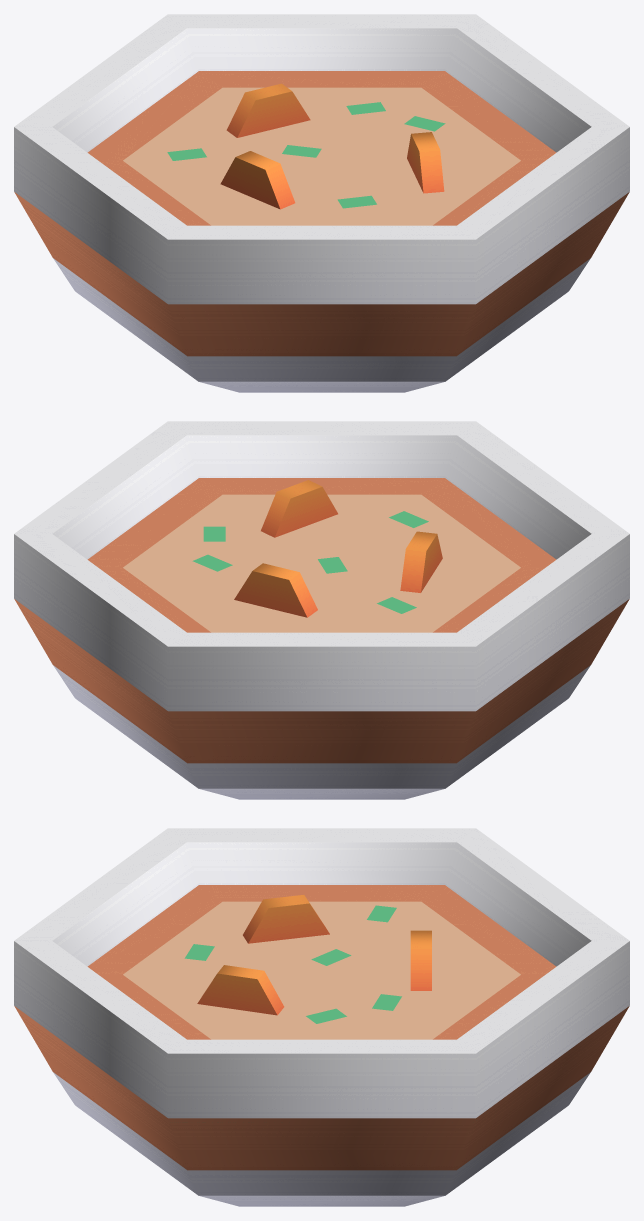
Rendered from bowl-soup.glb.
3 views of the same model, one above another, from view 1: azimuth 30°, elevation 25°; view 2: azimuth 150°, elevation 25°; view 3: azimuth 270°, elevation 25° (orthographic).
Visible parts, largest first — view 1: bowl-soup; view 2: bowl-soup; view 3: bowl-soup.
Boxes of the visible parts, x1,y1,x2,y2 form: bowl-soup: (14, 14, 629, 392); bowl-soup: (14, 421, 629, 799); bowl-soup: (14, 828, 629, 1206).
Size of the model in its own units: 0.5022 by 0.2138 by 0.5798.
Materials: 1 (1 with a texture image).
